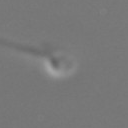normal: (1, 30, 46, 58)
